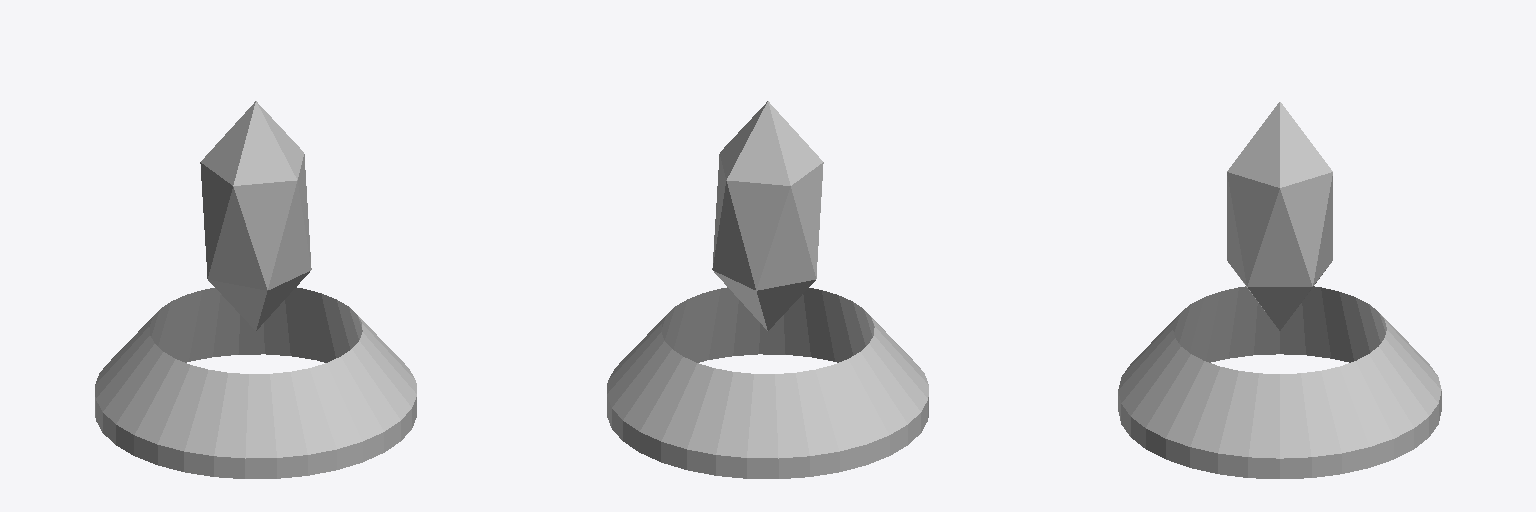
File: LuxRouter.obj
3 views of the same model, side by side, from view 1: azimuth 30°, elevation 25°; view 2: azimuth 150°, elevation 25°; view 3: azimuth 270°, elevation 25° (orthographic).
Parts seen in each view (by area): view 1: Plane, Icosphere; view 2: Plane, Icosphere; view 3: Plane, Icosphere.
Part boxes in pixels (x1,y1,x2,y2): Plane: (95, 287, 416, 478); Icosphere: (200, 101, 311, 330); Plane: (607, 287, 928, 478); Icosphere: (712, 101, 823, 330); Plane: (1118, 286, 1441, 478); Icosphere: (1227, 102, 1332, 330).
Bounding box in the file's own units: 0.75 × 0.7938 × 0.75.